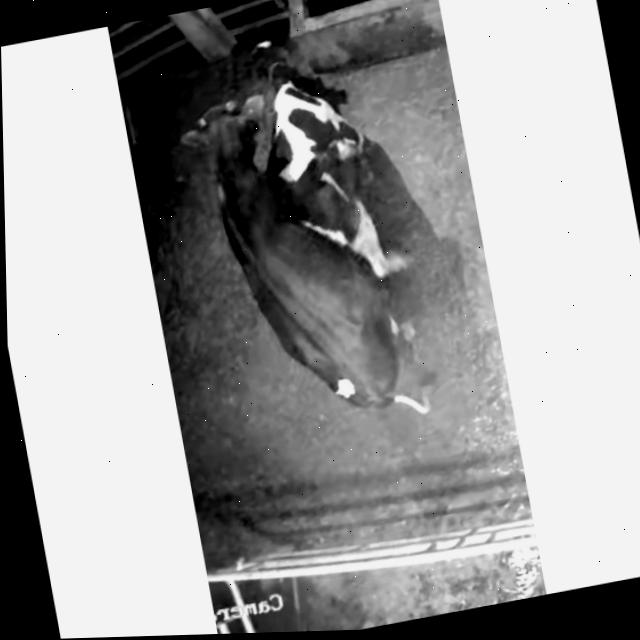ride: (159, 72, 445, 476)
